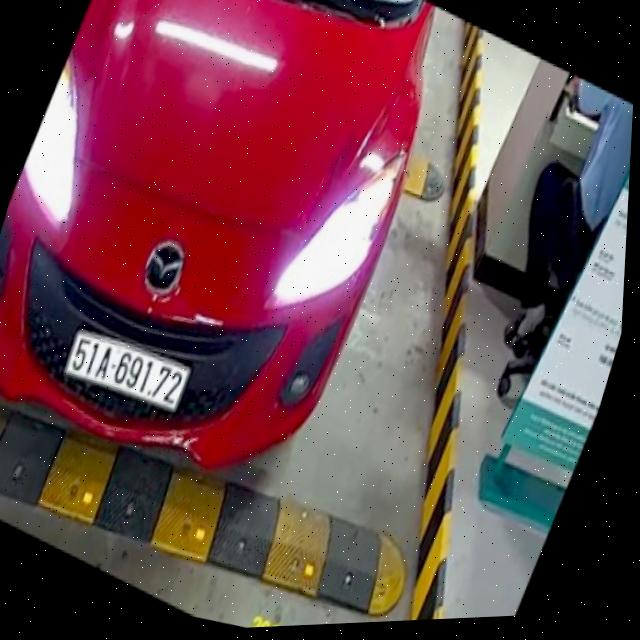car: (0, 0, 458, 516)
plate: (51, 320, 199, 420)
